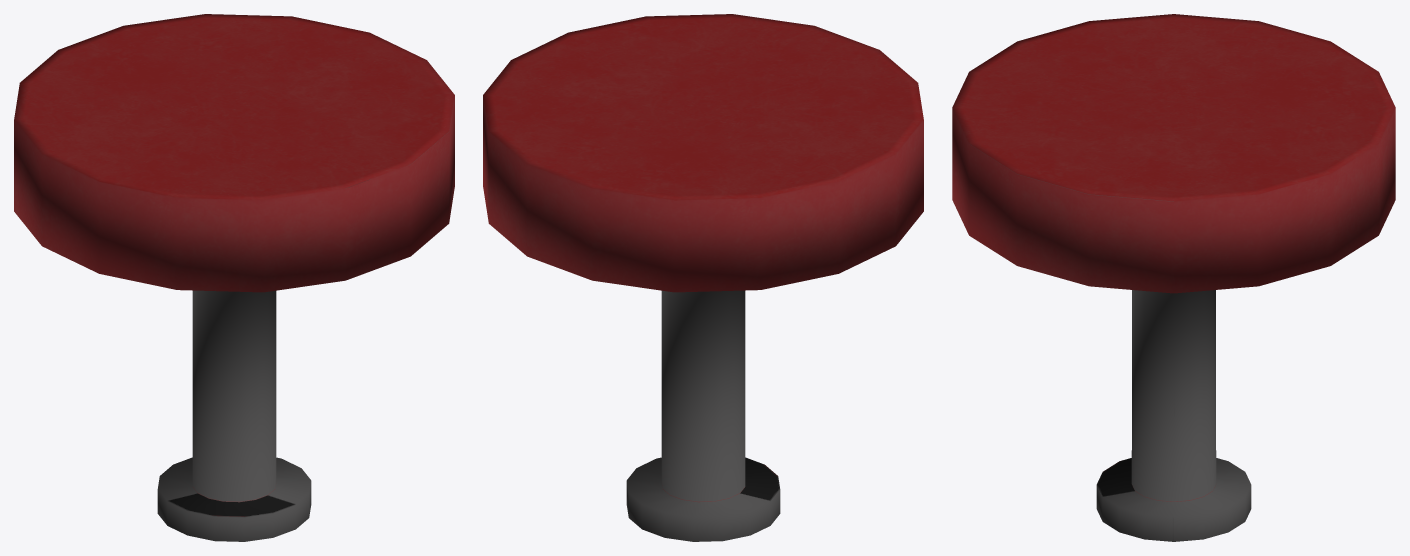
The model's file is Silla_Redonda.fbx.
3 renders of one model, left to right at view 1: azimuth 30°, elevation 25°; view 2: azimuth 150°, elevation 25°; view 3: azimuth 270°, elevation 25°, orthographic.
Parts seen in each view (by area): view 1: Silla_Redonda; view 2: Silla_Redonda; view 3: Silla_Redonda.
Part boxes in pixels (x1=…): Silla_Redonda: x1=14, y1=14, x2=454, y2=541; Silla_Redonda: x1=483, y1=14, x2=923, y2=541; Silla_Redonda: x1=952, y1=14, x2=1395, y2=541.
Size of the model in its own units: 62.82 by 62.76 by 62.82.
